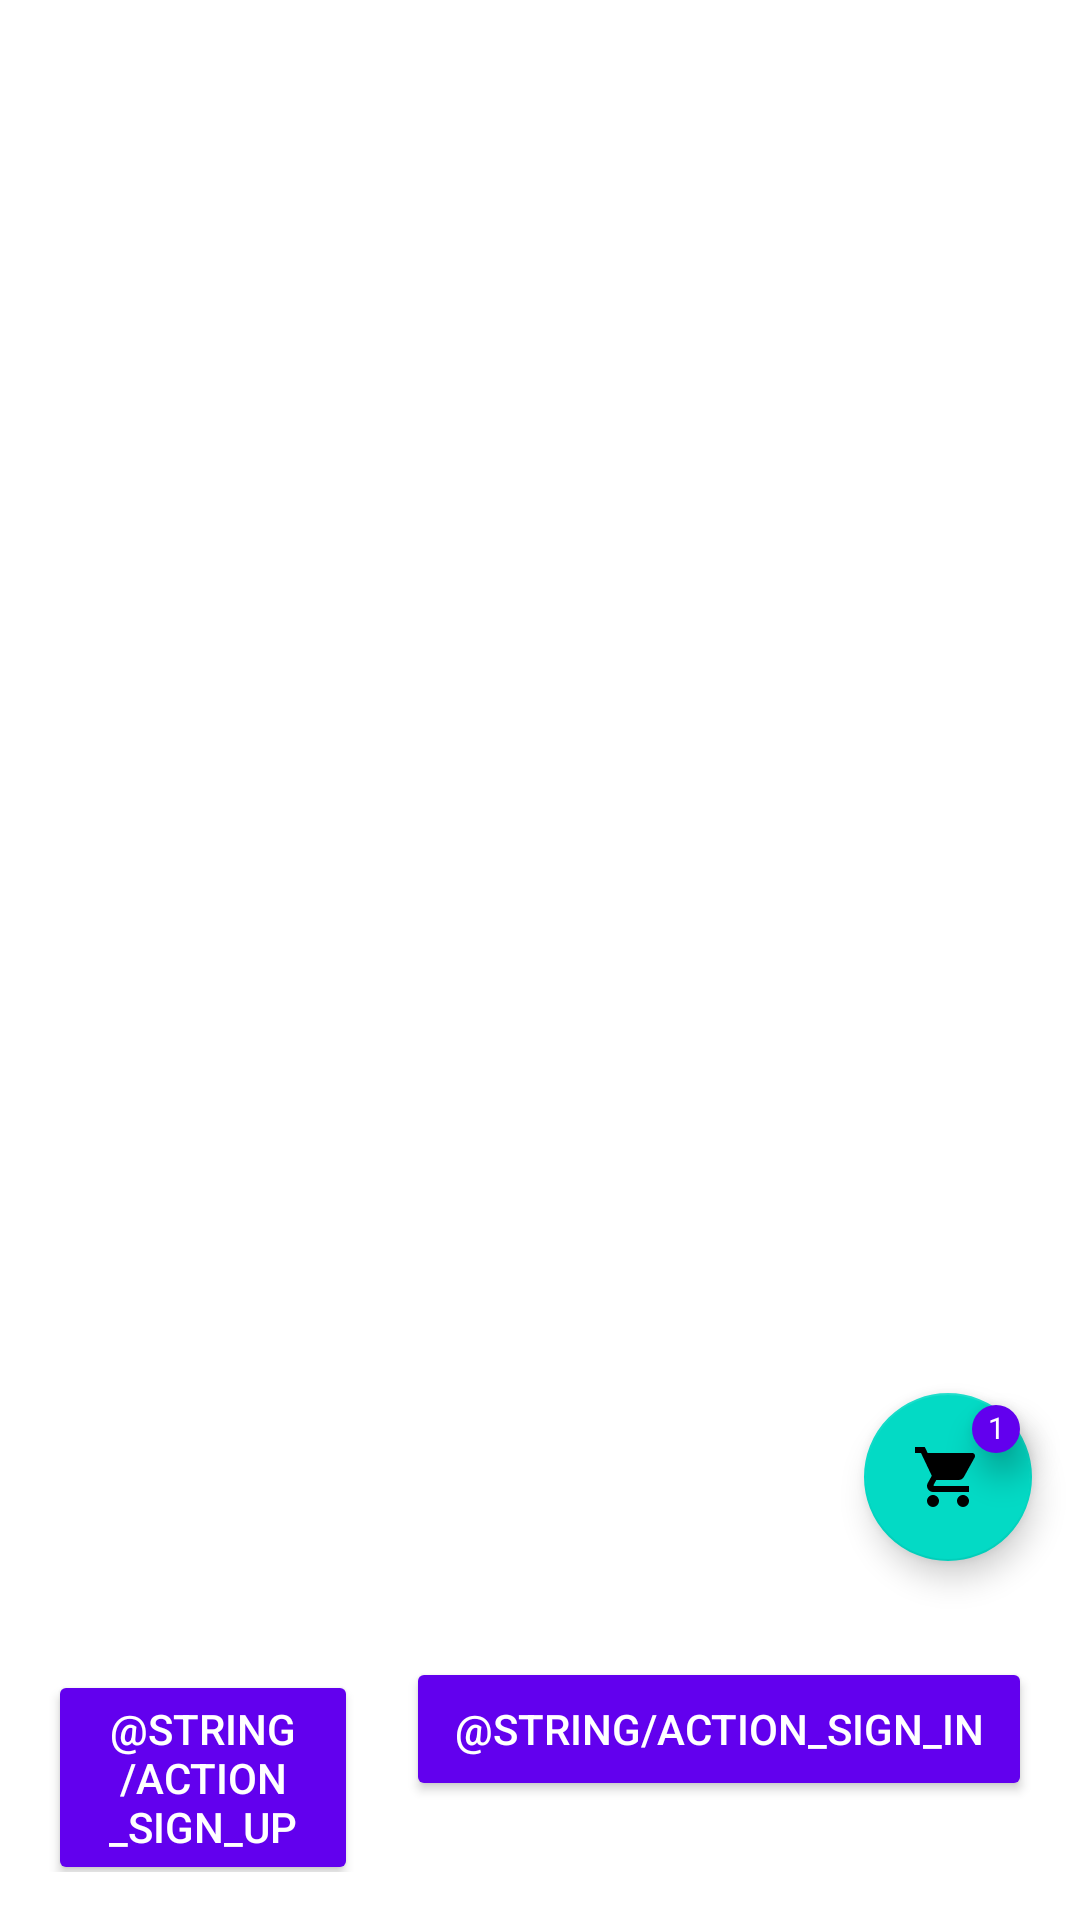

Screen size 1080px×1920px. Icon name, then its center in pixels as (x,y):
cart: (948,1477)
